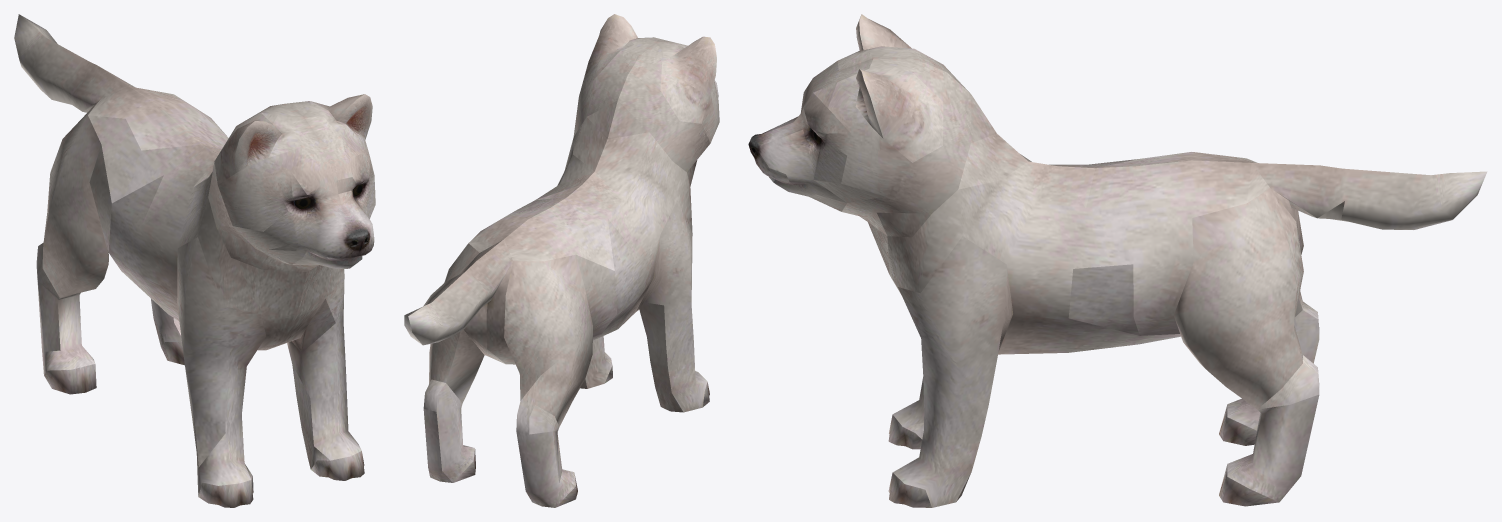
Rendered from Shiba.obj.
The picture shows the model from 3 angles, left to right: view 1: azimuth 30°, elevation 25°; view 2: azimuth 150°, elevation 25°; view 3: azimuth 270°, elevation 25°; orthographic projection. The views are drawn at different scales.
Parts seen in each view (by area): view 1: vsn_mesh_1__mesh_1_; view 2: vsn_mesh_1__mesh_1_; view 3: vsn_mesh_1__mesh_1_.
Boxes of the visible parts, box(x1,y1,x2,y2) form: vsn_mesh_1__mesh_1_: box(14, 14, 375, 507); vsn_mesh_1__mesh_1_: box(404, 14, 719, 507); vsn_mesh_1__mesh_1_: box(748, 14, 1487, 507).
Bounding box in the file's own units: 1.46 × 3.41 × 5.31.
Materials: 3 (3 with a texture image).
